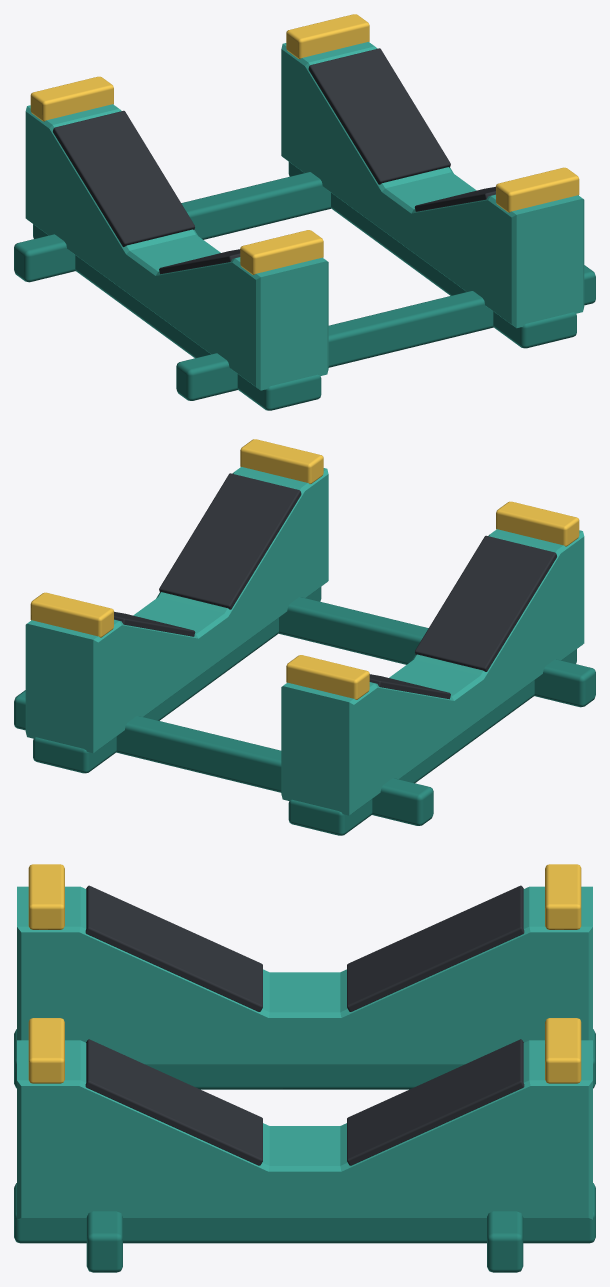
The model's file is berco_bobina.glb.
The picture shows the model from 3 angles, top to bottom: view 1: azimuth 30°, elevation 25°; view 2: azimuth 150°, elevation 25°; view 3: azimuth 270°, elevation 25°; orthographic projection. The views are drawn at different scales.
Visible parts, largest first — view 1: sela (×2), borracha (×4), longarina (×2), batente (×4), travessa (×2); view 2: sela (×2), borracha (×4), longarina (×2), batente (×4), travessa (×2); view 3: sela (×2), borracha (×4), travessa (×2), batente (×4), longarina (×2).
Part boxes in pixels (box(x1,y1,x2,y2)): sela (×2): box(25, 42, 584, 390); borracha (×4): box(53, 48, 495, 274); longarina (×2): box(14, 172, 595, 400); batente (×4): box(30, 14, 579, 274); travessa (×2): box(33, 162, 576, 410); sela (×2): box(25, 467, 584, 815); borracha (×4): box(114, 473, 556, 699); longarina (×2): box(14, 597, 595, 825); batente (×4): box(30, 439, 579, 699); travessa (×2): box(33, 587, 576, 835); sela (×2): box(17, 886, 592, 1219); borracha (×4): box(85, 885, 524, 1165); travessa (×2): box(14, 1029, 595, 1243); batente (×4): box(28, 864, 581, 1083); longarina (×2): box(86, 1211, 523, 1272).
Bounding box in the file's own units: 1.6 × 0.58 × 1.6.
